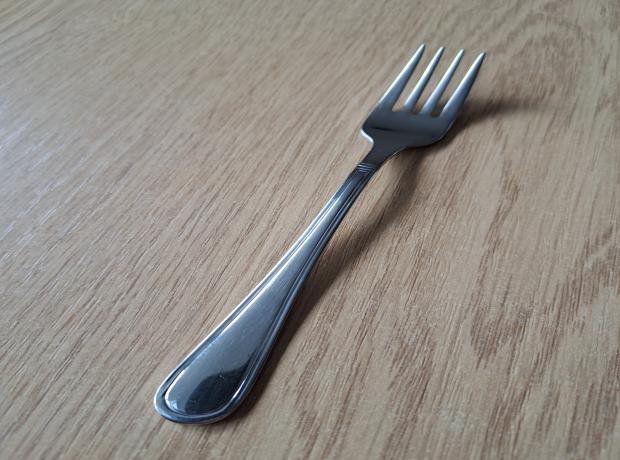metal: (150, 45, 492, 424)
